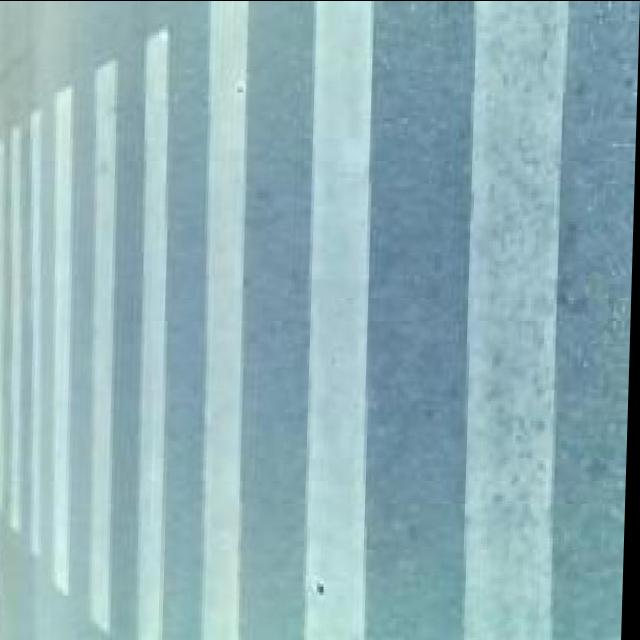zebra: (0, 61, 639, 526)
